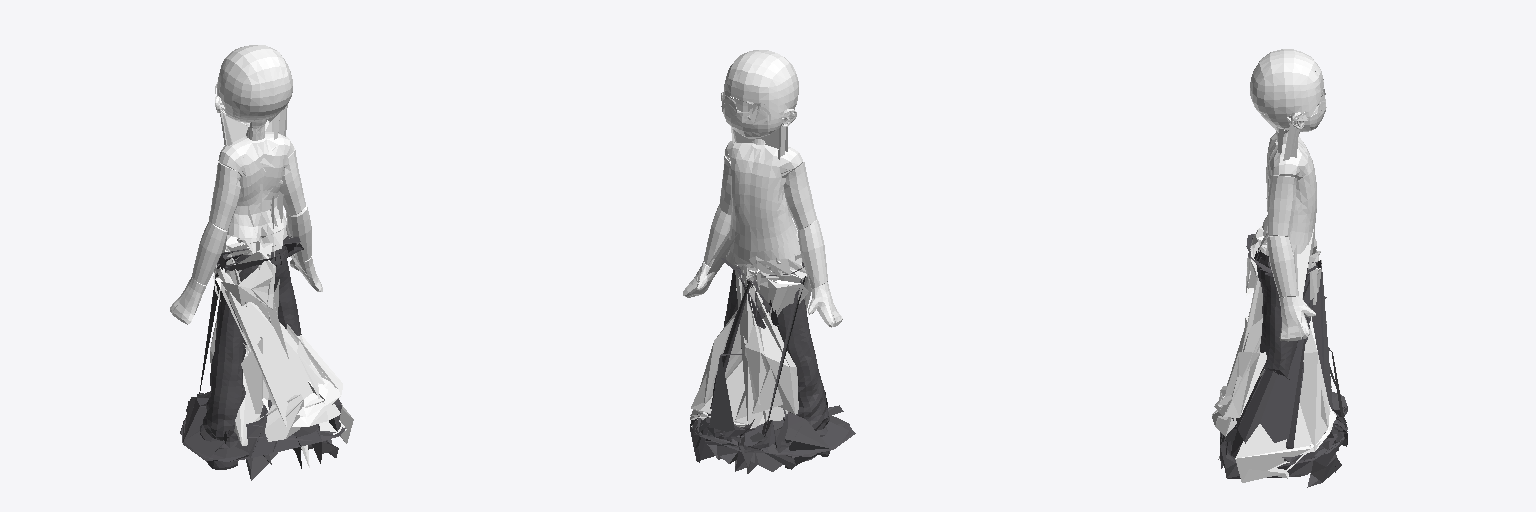
The model's file is bebo.obj.
3 views of the same model, side by side, from view 1: azimuth 30°, elevation 25°; view 2: azimuth 150°, elevation 25°; view 3: azimuth 270°, elevation 25° (orthographic).
Visible parts, largest first — view 1: Handle2, Handle3, Djbebote4, Djbebote5, Djbebote3, Djbebote7, Djbebote1, Handle1, Djbebote2, Djbebote9; view 2: Handle3, Handle2, Djbebote5, Djbebote4, Djbebote3, Djbebote7, Handle1, Djbebote6, Djbebote2, Djbebote9; view 3: Handle3, Handle2, Djbebote4, Djbebote5, Djbebote1, Djbebote9, Handle1, Djbebote8.
Part boxes in pixels (left/top/right/bottom): Handle2: left=210, top=103, right=353, bottom=467; Handle3: left=180, top=236, right=345, bottom=480; Djbebote4: left=215, top=45, right=292, bottom=140; Djbebote5: left=218, top=132, right=293, bottom=237; Djbebote3: left=209, top=162, right=240, bottom=230; Djbebote7: left=192, top=222, right=227, bottom=285; Djbebote1: left=279, top=148, right=305, bottom=215; Handle1: left=219, top=98, right=309, bottom=278; Djbebote2: left=170, top=277, right=205, bottom=324; Djbebote9: left=286, top=205, right=311, bottom=261; Handle3: left=690, top=258, right=855, bottom=473; Handle2: left=690, top=126, right=811, bottom=428; Djbebote5: left=725, top=141, right=802, bottom=251; Djbebote4: left=721, top=50, right=798, bottom=144; Djbebote3: left=784, top=162, right=816, bottom=229; Djbebote7: left=798, top=219, right=827, bottom=288; Handle1: left=689, top=72, right=795, bottom=297; Djbebote6: left=726, top=236, right=801, bottom=275; Djbebote2: left=808, top=282, right=842, bottom=327; Djbebote9: left=704, top=206, right=730, bottom=266; Handle3: left=1220, top=234, right=1347, bottom=487; Handle2: left=1212, top=123, right=1336, bottom=482; Djbebote4: left=1250, top=49, right=1326, bottom=143; Djbebote5: left=1263, top=133, right=1316, bottom=245; Djbebote1: left=1267, top=175, right=1296, bottom=236; Djbebote9: left=1266, top=235, right=1297, bottom=297; Handle1: left=1261, top=68, right=1325, bottom=337; Djbebote8: left=1279, top=296, right=1315, bottom=341.
Bounding box in the file's own units: 2.58 × 6.64 × 2.02.